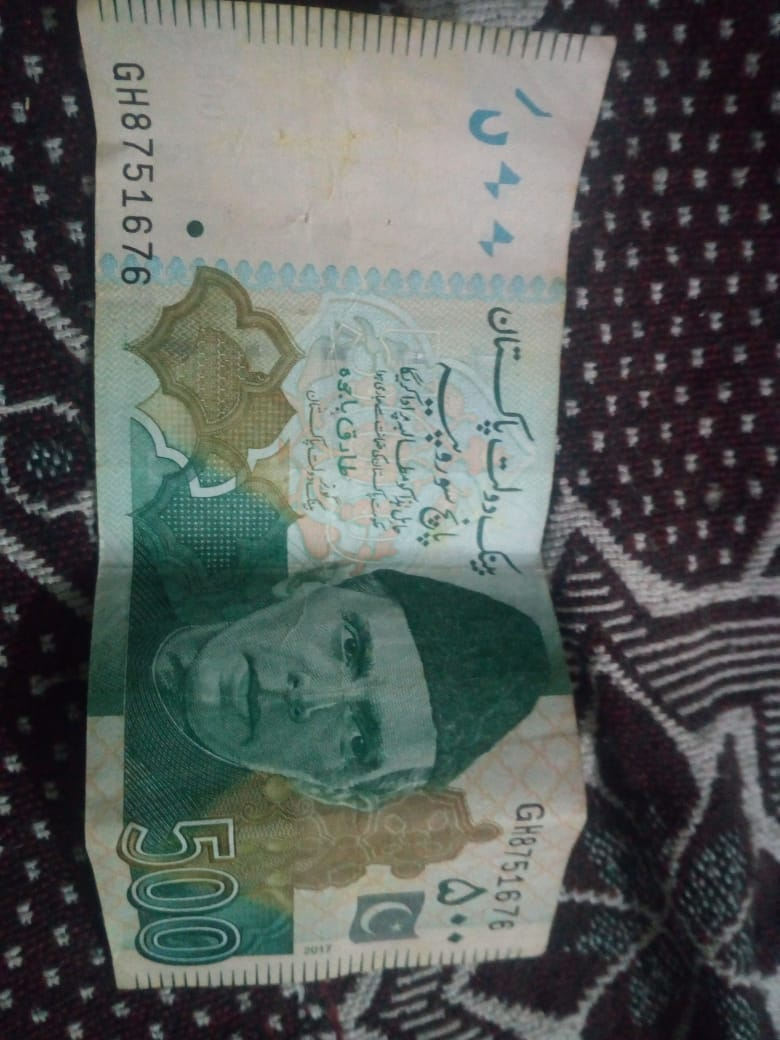500 rupee: (60, 20, 594, 1031)
